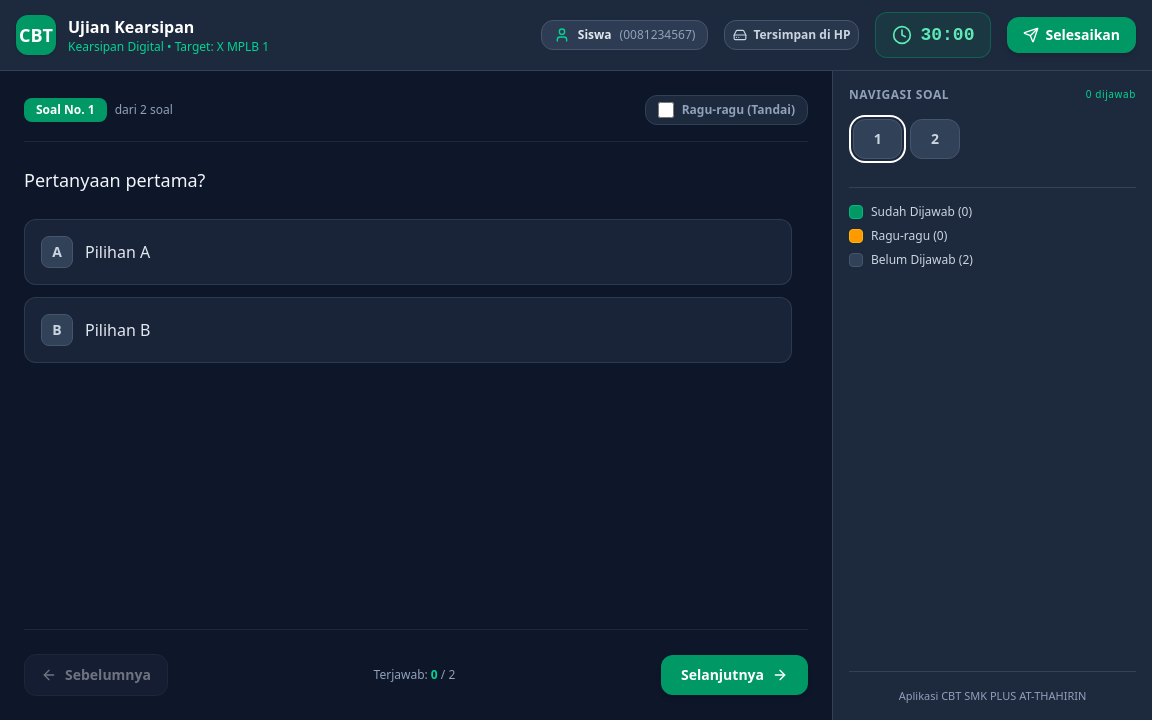
Test: CbtTestRunner › navigasi ke soal berikutnya
Click the button "Selanjutnya" at (734, 675), box 661,655 -> 808,695
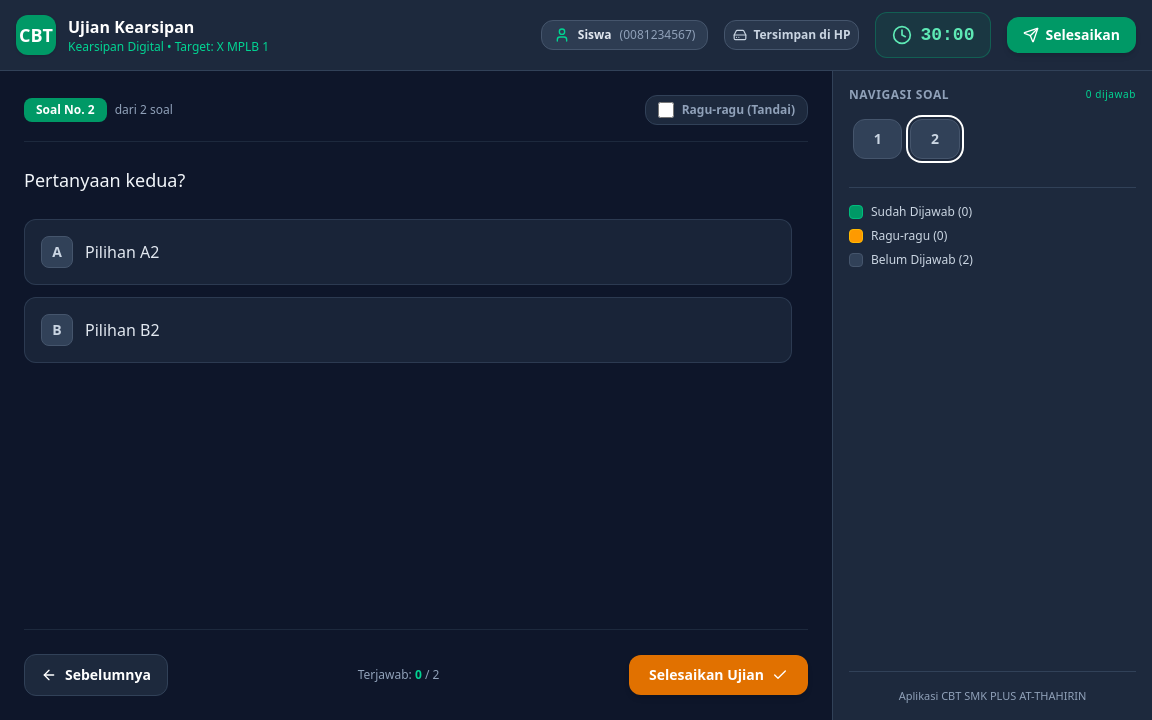
Check: the text "Soal No. 2" is shown, box 24,98 -> 107,122
Check: the text "Pertanyaan kedua?" is shown, box 24,168 -> 185,192
